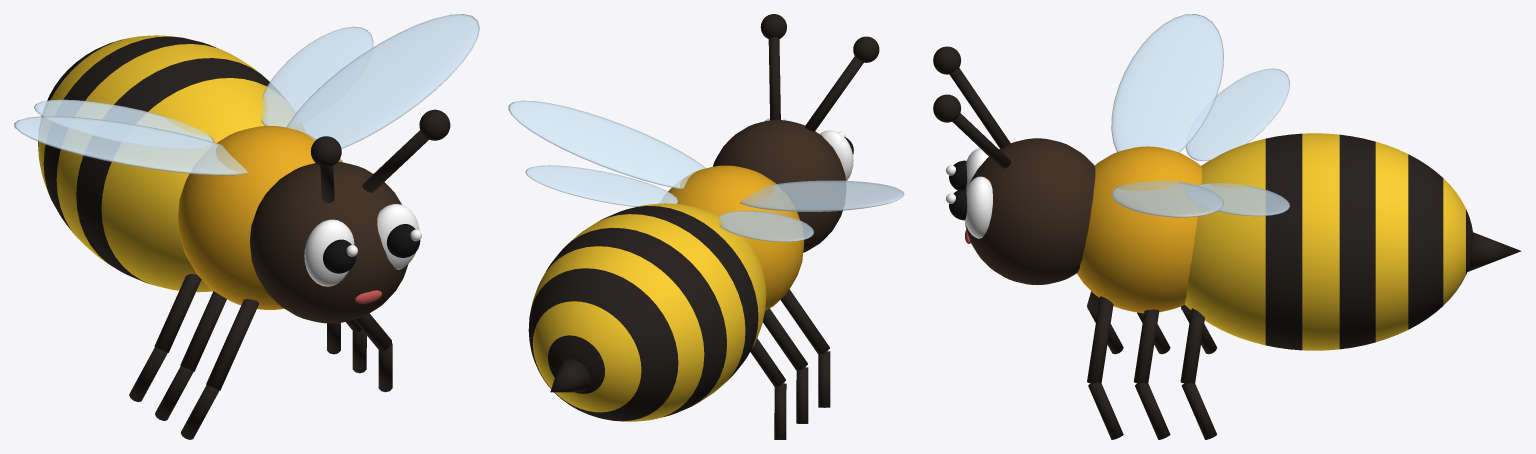
Rendered from abeja.glb.
The picture shows the model from 3 angles, left to right: view 1: azimuth 30°, elevation 25°; view 2: azimuth 150°, elevation 25°; view 3: azimuth 270°, elevation 25°; orthographic projection. The views are drawn at different scales.
Parts seen in each view (by area): view 1: Sphere.001, ala_i, Sphere.002, Sphere, ala_d, Sphere.003, Cylinder.001, Cylinder.005, Cylinder.003, Sphere.007, Cylinder.007, Cylinder.006 (+10 smaller); view 2: Sphere.001, ala_i, Sphere, Sphere.002, ala_d, Cone, Cylinder, Cylinder.001, Cylinder.007, Cylinder.003, Sphere.003, Cylinder.002 (+5 smaller); view 3: Sphere.001, ala_d, Sphere, Sphere.002, ala_i, Sphere.007, Cylinder.008, Cylinder, Cylinder.010, Cylinder.012, Cone, Cylinder.007 (+5 smaller).
Boxes of the visible parts, x1,y1,x2,y2 form: Sphere.001: (38,35,305,292); ala_i: (261,14,479,148); Sphere.002: (249,161,408,323); Sphere: (178,126,343,309); ala_d: (14,99,247,175); Sphere.003: (304,219,354,286); Cylinder.001: (206,299,258,390); Cylinder.005: (154,274,201,352); Cylinder.003: (180,291,226,371); Sphere.007: (377,204,419,269); Cylinder.007: (362,130,428,192); Cylinder.006: (129,347,167,401); Sphere.001: (528,203,766,421); ala_i: (508,100,705,206); Sphere: (661,165,804,310); Sphere.002: (713,120,845,252); ala_d: (719,180,904,241); Cone: (550,359,590,392); Cylinder: (805,56,863,131); Cylinder.001: (780,289,829,354); Cylinder.007: (768,37,780,120); Cylinder.003: (763,308,807,370); Sphere.003: (820,130,853,180); Cylinder.002: (818,351,830,407); Sphere.001: (1184,133,1473,350); ala_d: (1111,14,1289,160); Sphere: (1077,146,1201,313); Sphere.002: (965,138,1095,285); ala_i: (1111,180,1289,217); Sphere.007: (964,176,992,238); Cylinder.008: (1087,296,1113,383); Cylinder: (949,68,1010,148); Cylinder.010: (1133,309,1159,383); Cylinder.012: (1180,308,1204,383); Cone: (1467,232,1521,271); Cylinder.007: (952,113,1011,168).
Size of the model in its own units: 1.43 by 1.07 by 1.76.
